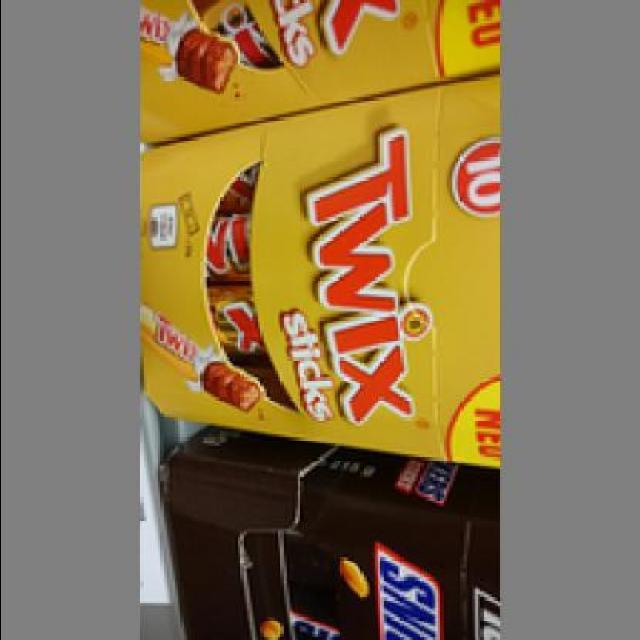Chocolate bar: (140, 92, 440, 452), (163, 463, 503, 634)
